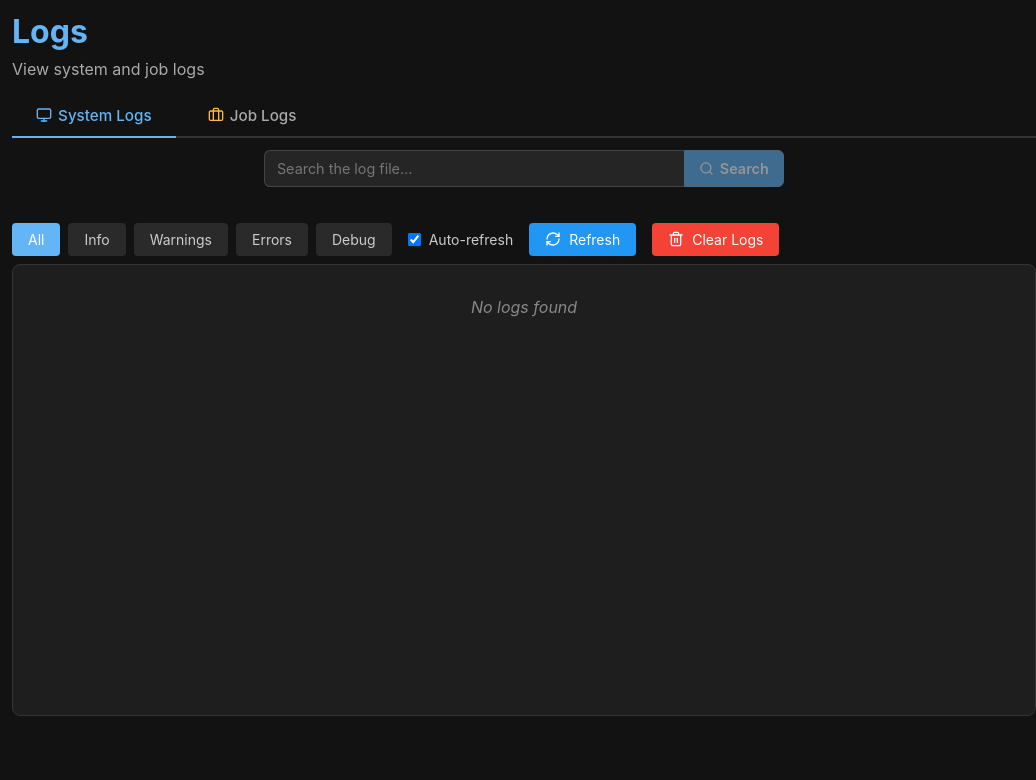
Test: Logs › loads system logs when auto-refresh is disabled
The image size is (1036, 780).
Click the checkbox labelled "Auto-refresh" at (414, 239), box [408,232,421,246]
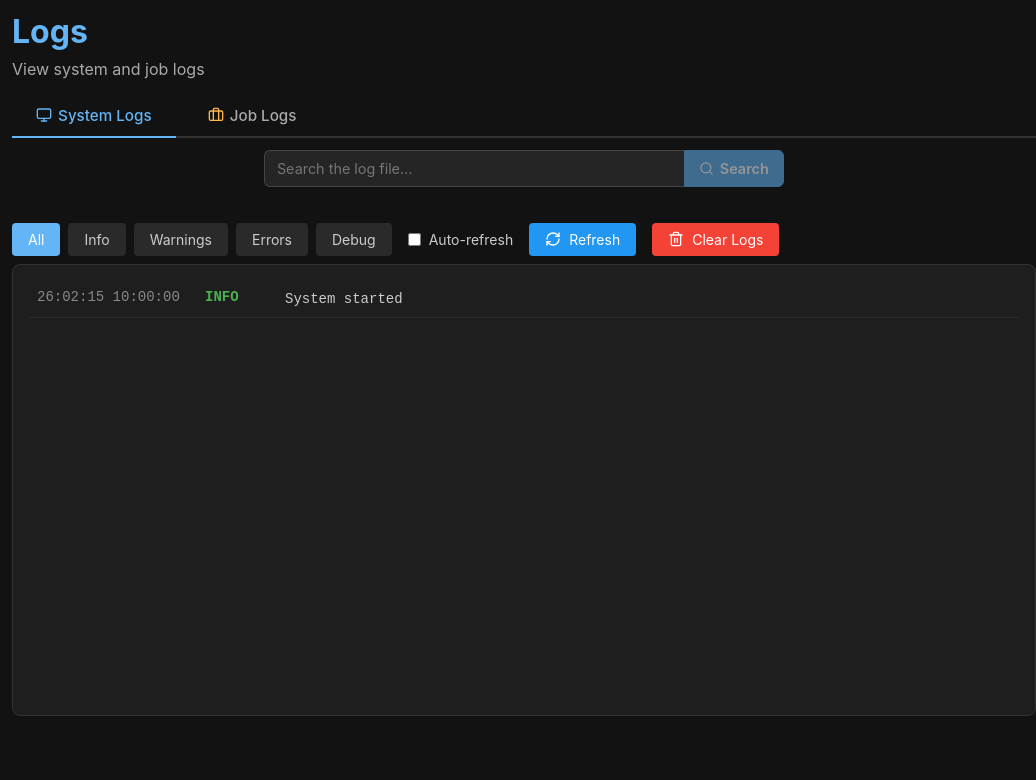
Now the text "System started" is shown, box [285,290,403,306]
